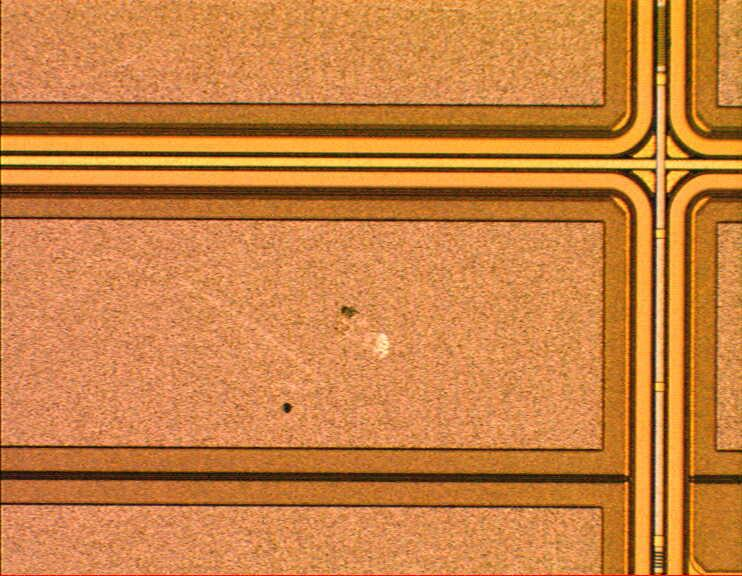SCRATCH: (38, 216, 395, 406)
